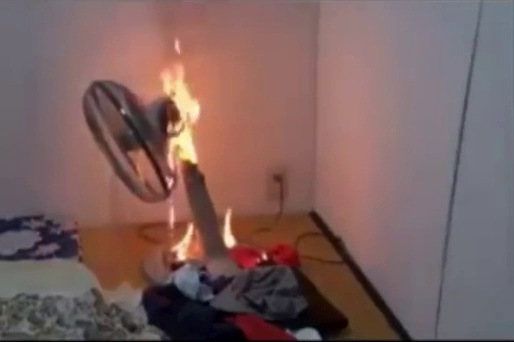fire: (160, 55, 215, 172)
